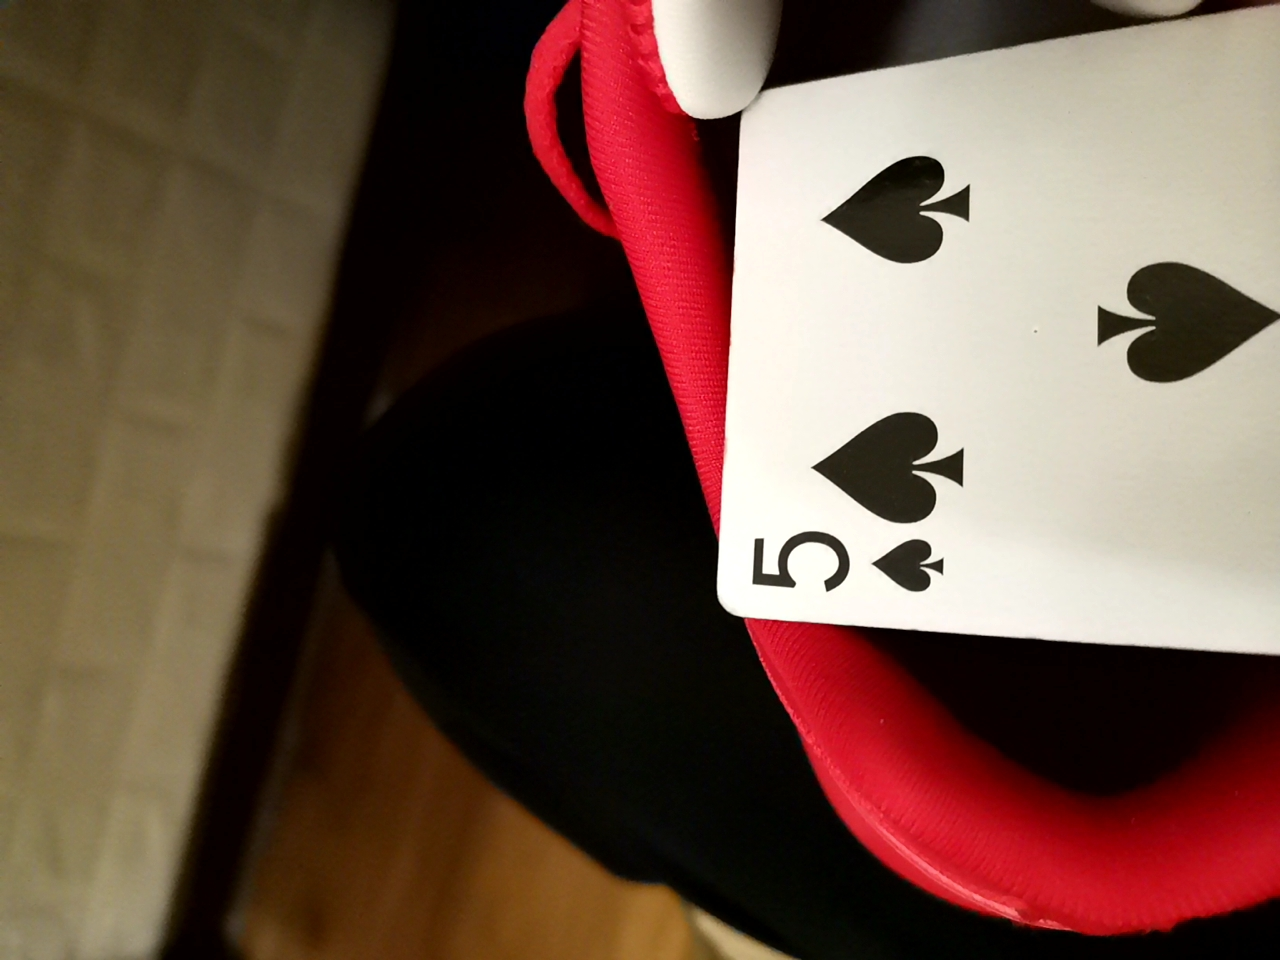ht 5: (703, 6, 1274, 668)
